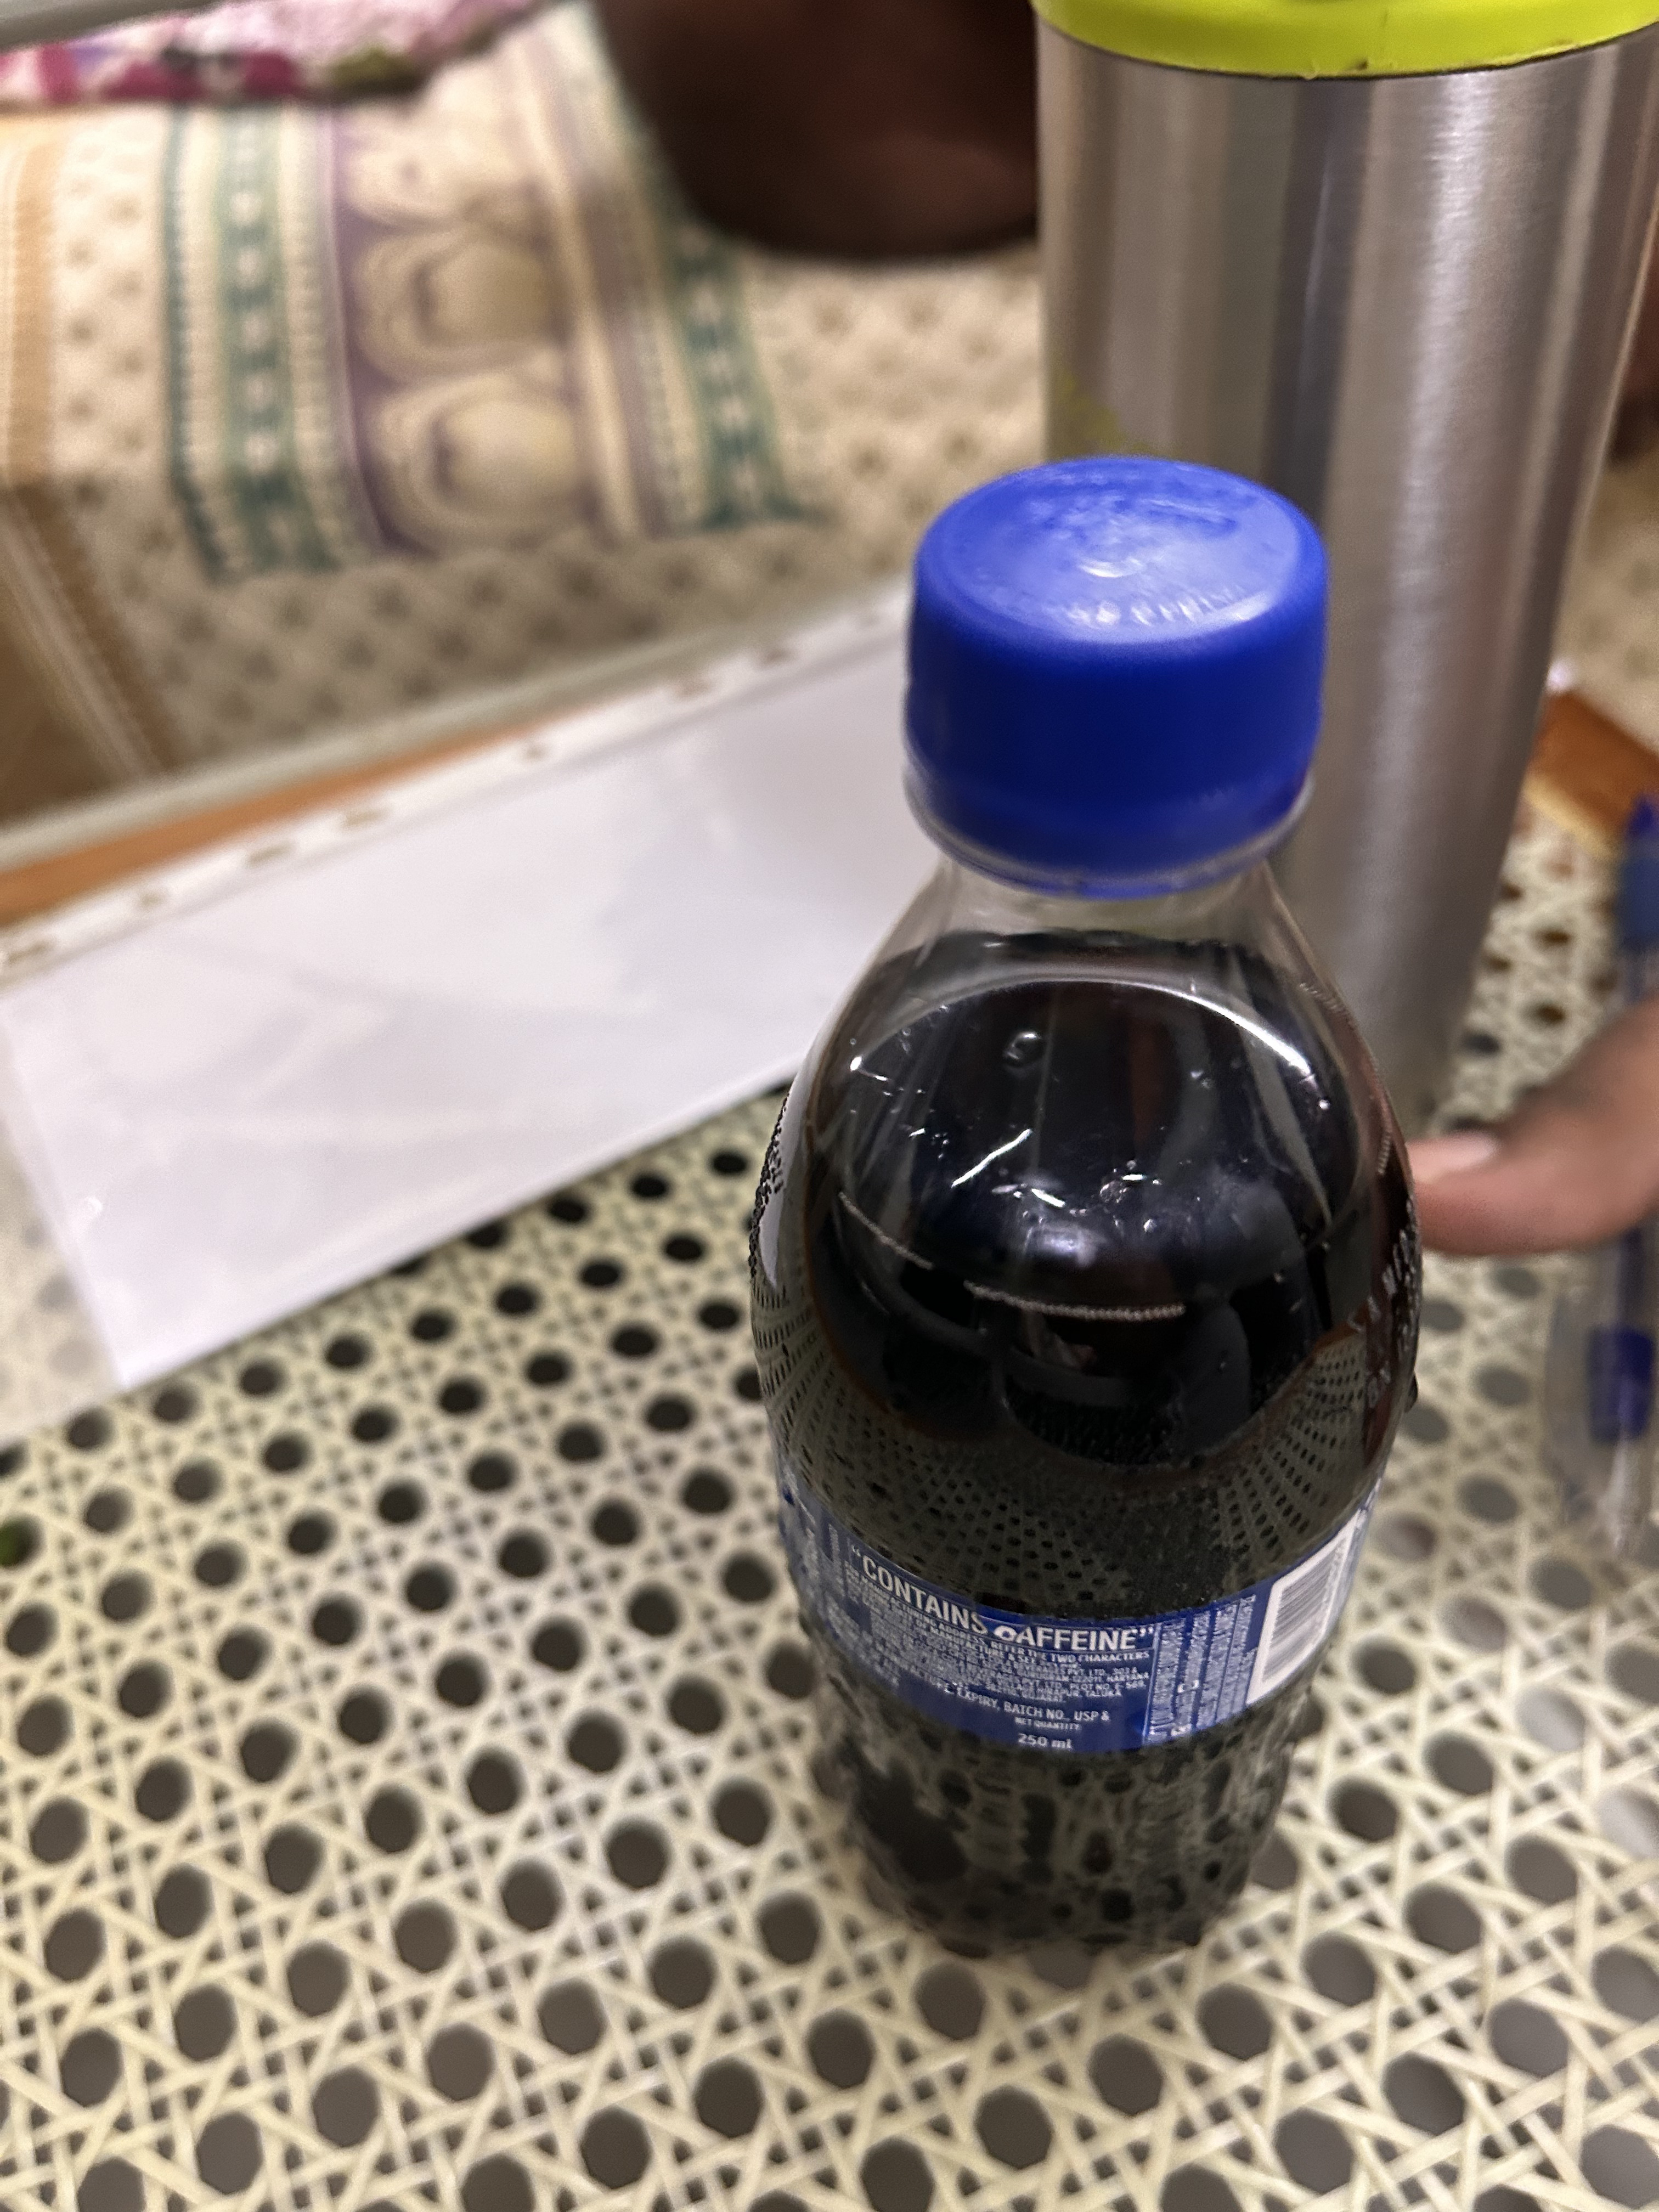sealstable: (884, 469, 1338, 907)
